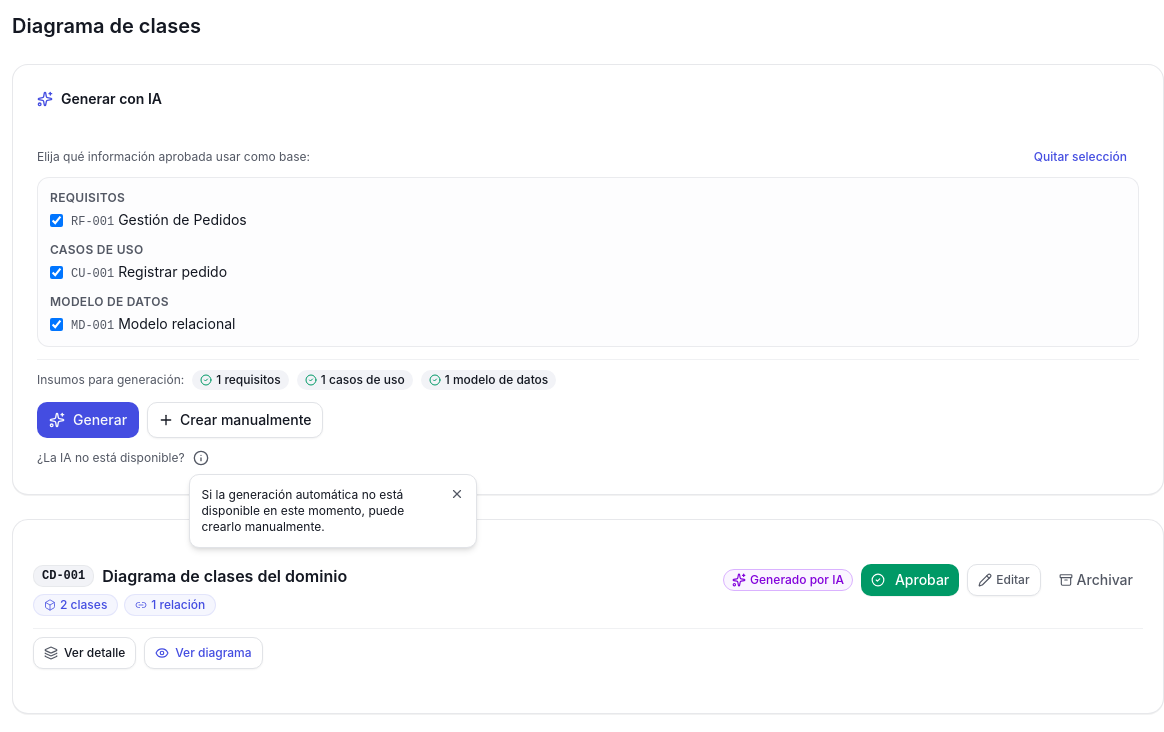
Scenario: ClassDiagramPage › draws the class diagram as a background job and shows the proposal when it finishes
This screenshot has width=1164, height=732.
Click the button "Generar". click: {"x": 88, "y": 420}
box: [37,402,139,438]
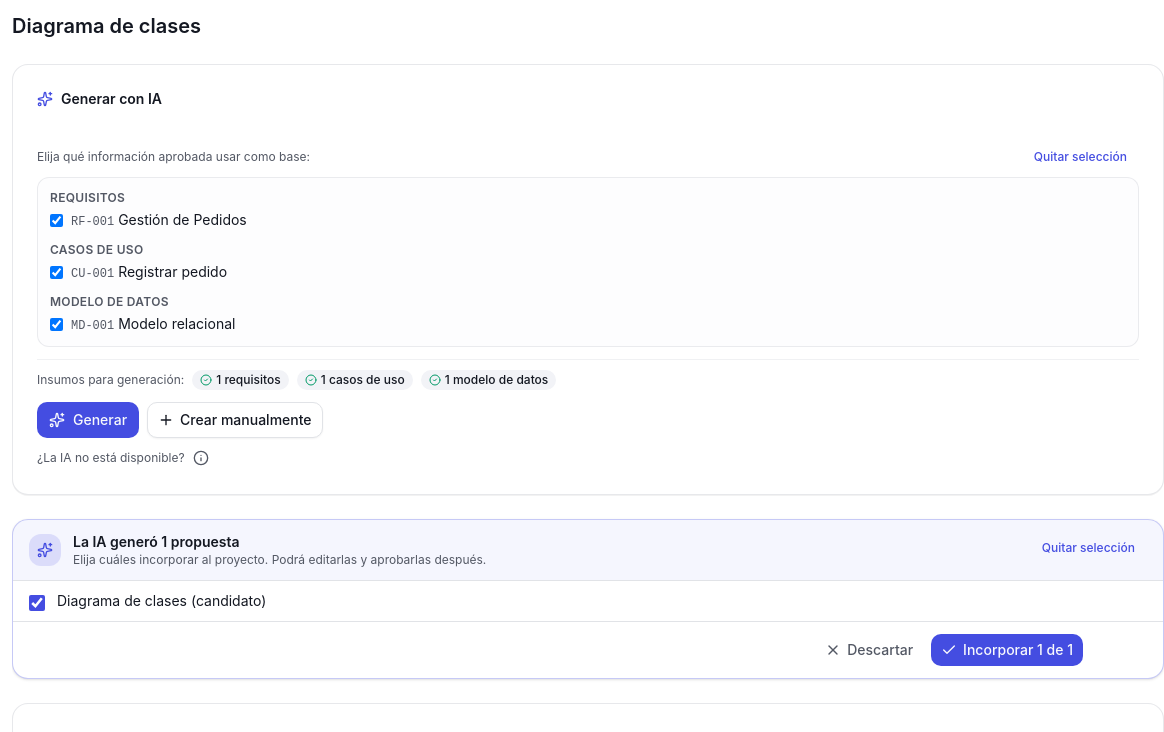
Expected: the heading "La IA generó 1 propuesta" is shown, [73,533,240,550]
